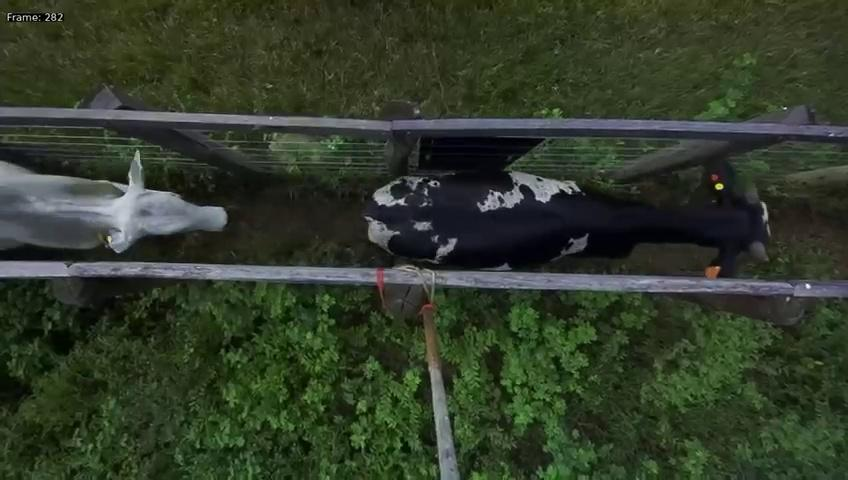cattle: (350, 143, 784, 287)
